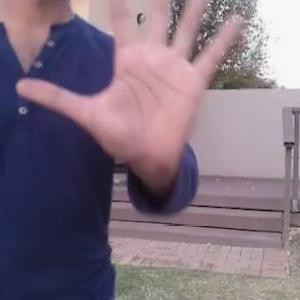follow_hand: (14, 0, 246, 177)
